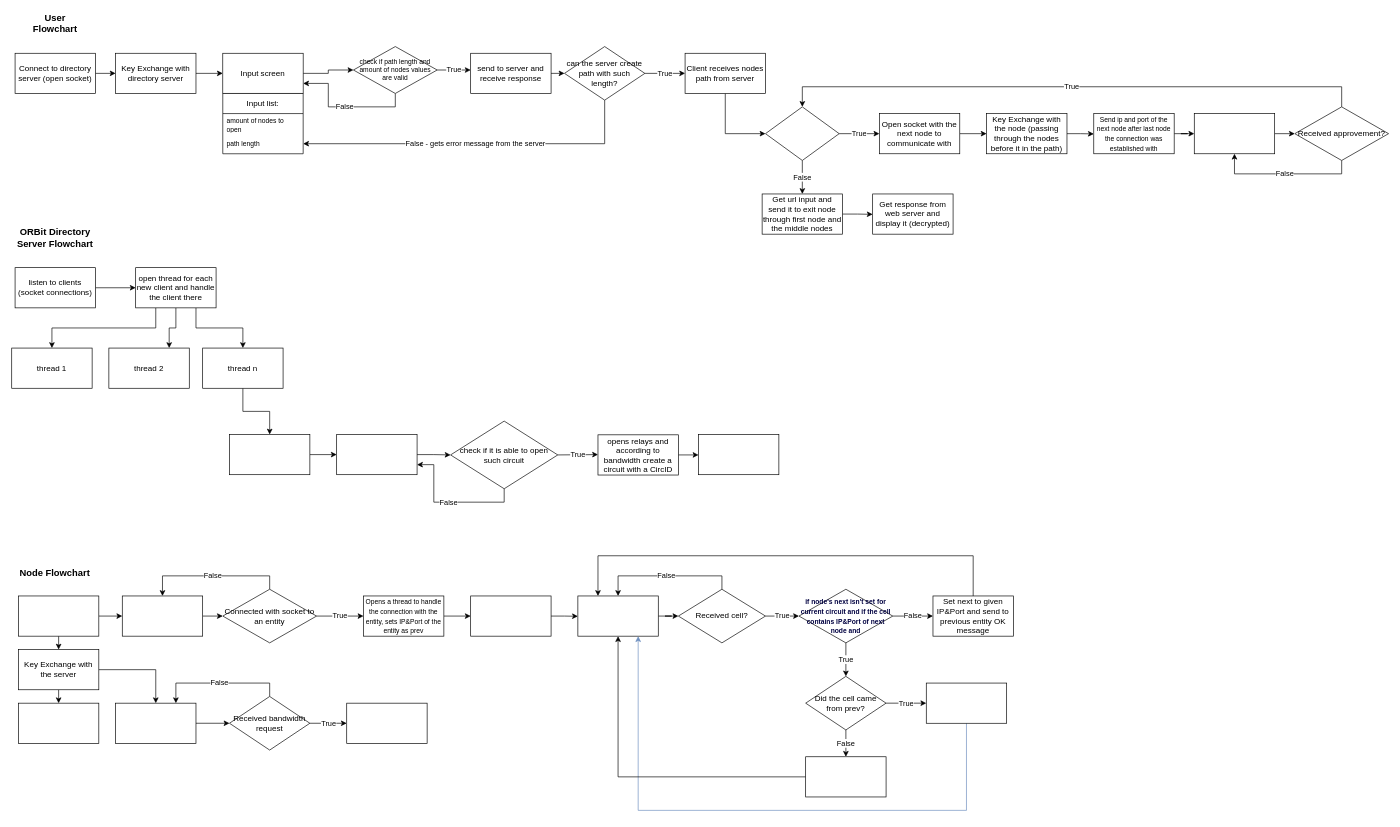
Image size: 1400x827. Some labels were removed from this diagram. The shapes that lost their labels are listed below. From the top down, each one's centre as x and y in pixels, then its label:
the point at 802,133: are there any nodes to connect with?
the point at 1234,133: Listen for approvement from the node
the point at 269,454: Key Exchange with the client
the point at 376,454: Receive amount of nodes to open,and circuit length
the point at 738,454: Send the circuit to the client
the point at 58,615: After created be connected with socket to the server
the point at 162,615: Wait to a connection from an entity using socket
the point at 510,615: Key Exchange with the connected entity
the point at 617,615: Listen for cells from the entity
the point at 58,722: Starts a thread that notifies the server the node is running (sends cells)
the point at 155,722: Listen to bandwidth request from the server
the point at 386,722: Check bandwidth and send results to the server
the point at 966,702: decrypt one encryption layer to the cell and send the cell to next
the point at 845,776: add one encryption layer to the cell and send the cell to prev
